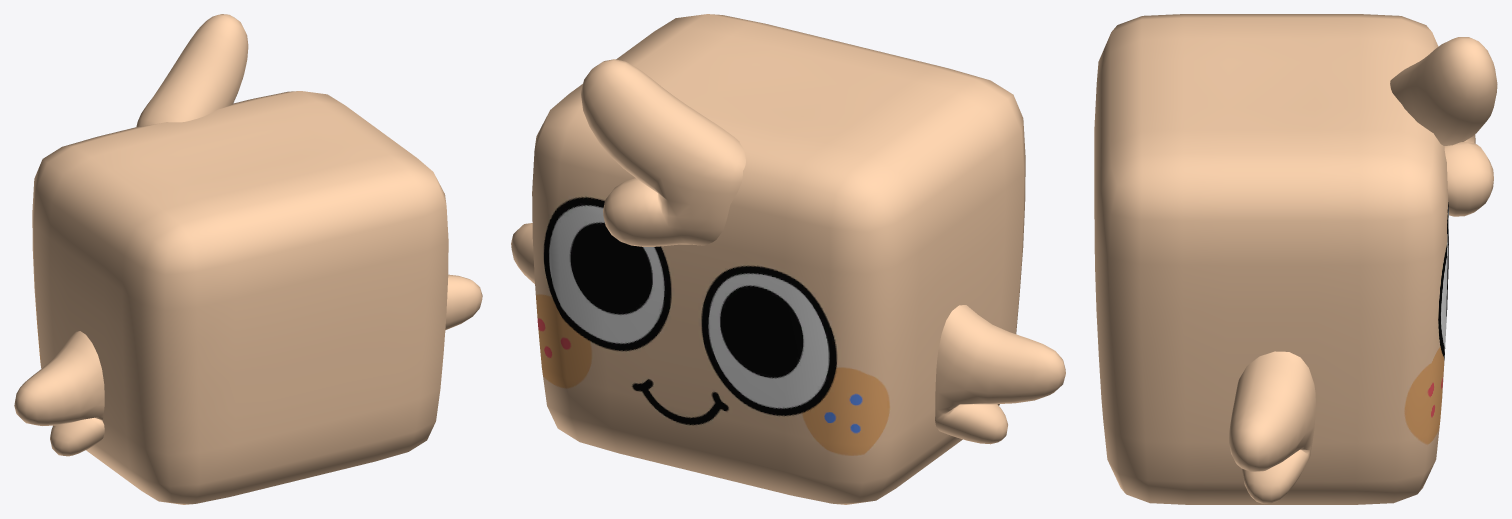
The model's file is Goob.glb.
3 views of the same model, side by side, from view 1: azimuth 30°, elevation 25°; view 2: azimuth 150°, elevation 25°; view 3: azimuth 270°, elevation 25° (orthographic). The views are drawn at different scales.
Parts seen in each view (by area): view 1: Goob Head; view 2: Goob Head; view 3: Goob Head.
Part boxes in pixels (x1=…): Goob Head: x1=14, y1=14, x2=482, y2=504; Goob Head: x1=511, y1=14, x2=1065, y2=504; Goob Head: x1=1094, y1=14, x2=1497, y2=504.
Bounding box in the file's own units: 4.18 × 3.07 × 2.56.
1 material, 1 textured.
